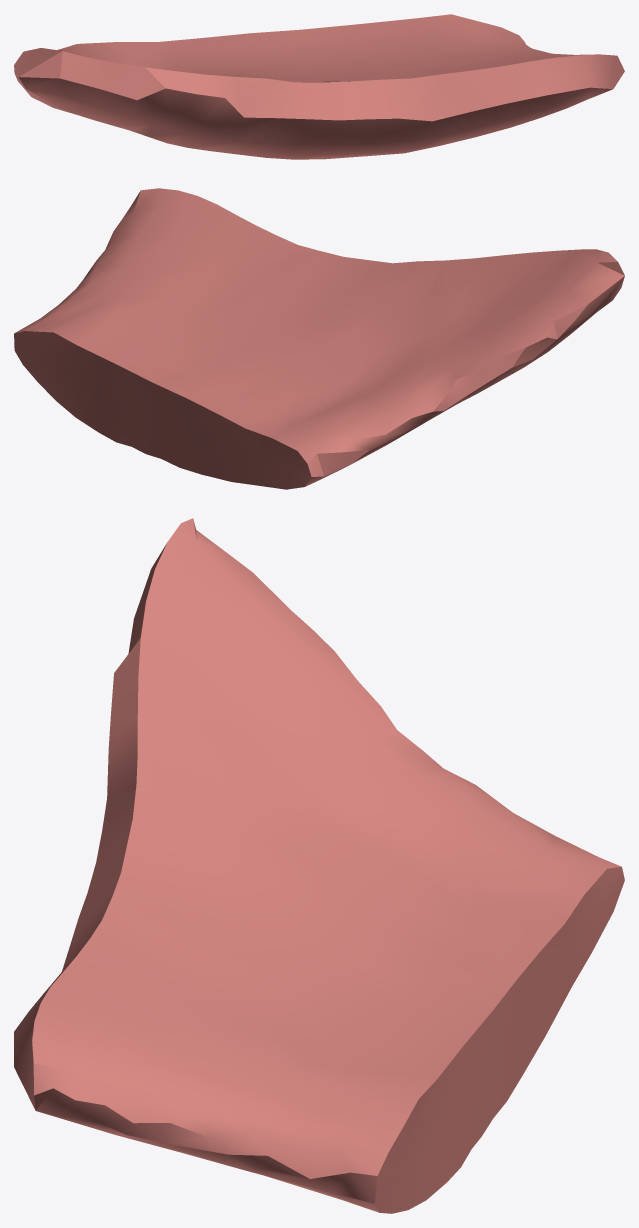
File: fma54114-f_mm2214m.glb
The picture shows the model from 3 angles, top to bottom: view 1: azimuth 30°, elevation 25°; view 2: azimuth 150°, elevation 25°; view 3: azimuth 270°, elevation 25°; orthographic projection. The views are drawn at different scales.
Visible parts, largest first — view 1: FMA54114-F_MM2214M; view 2: FMA54114-F_MM2214M; view 3: FMA54114-F_MM2214M.
Boxes of the visible parts, x1,y1,x2,y2 form: FMA54114-F_MM2214M: (14, 14, 624, 159); FMA54114-F_MM2214M: (14, 188, 624, 489); FMA54114-F_MM2214M: (14, 518, 624, 1213).
Bounding box in the file's own units: 0.00875 × 0.00335 × 0.00543.
